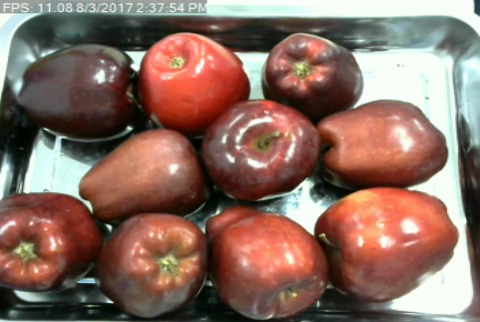Apple: (312, 184, 462, 303), (204, 206, 333, 322), (77, 123, 211, 225), (15, 42, 147, 144), (313, 97, 453, 192), (200, 96, 323, 203), (136, 30, 252, 139), (93, 210, 208, 318), (0, 190, 104, 293), (259, 28, 366, 118)
